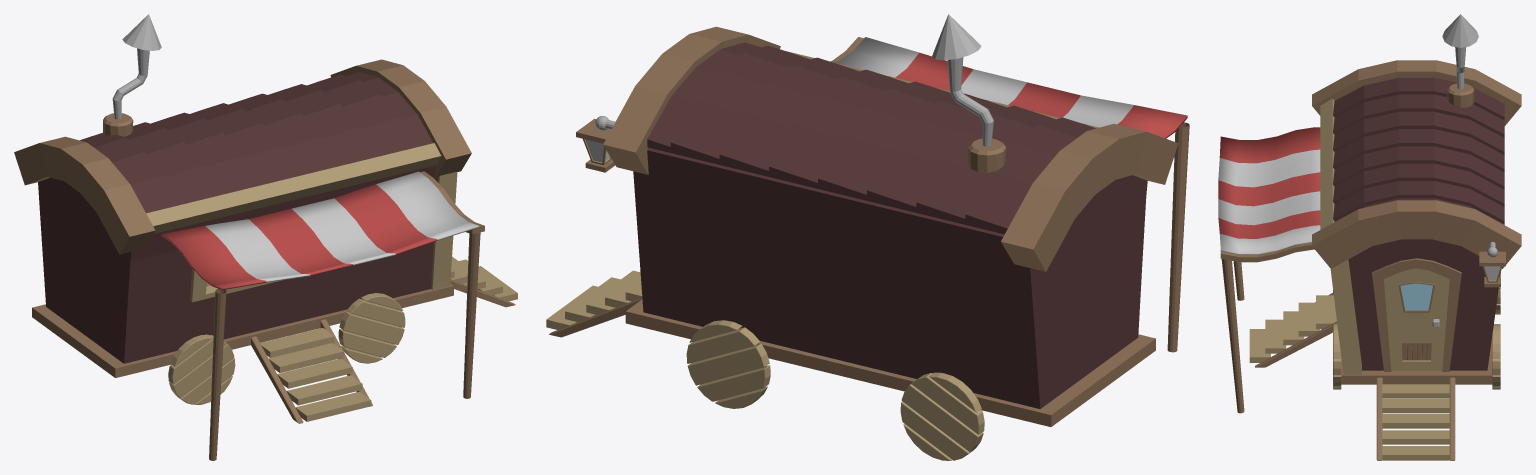
The model's file is Food car tek.fbx.
3 views of the same model, side by side, from view 1: azimuth 30°, elevation 25°; view 2: azimuth 150°, elevation 25°; view 3: azimuth 270°, elevation 25° (orthographic). The views are drawn at different scales.
Parts seen in each view (by area): view 1: Plane.028, Vert.001; view 2: Plane.028, Vert.001, Plane.016; view 3: Plane.028, Vert.001, Plane.016.
Boxes of the visible parts, x1,y1,x2,y2 form: Plane.028: [14, 14, 517, 423]; Vert.001: [162, 171, 484, 460]; Plane.028: [546, 14, 1178, 460]; Vert.001: [830, 37, 1189, 352]; Plane.016: [576, 118, 615, 172]; Plane.028: [1249, 14, 1521, 460]; Vert.001: [1218, 127, 1320, 413]; Plane.016: [1479, 251, 1505, 287].
Size of the model in its own units: 2150 by 1649 by 1458.
